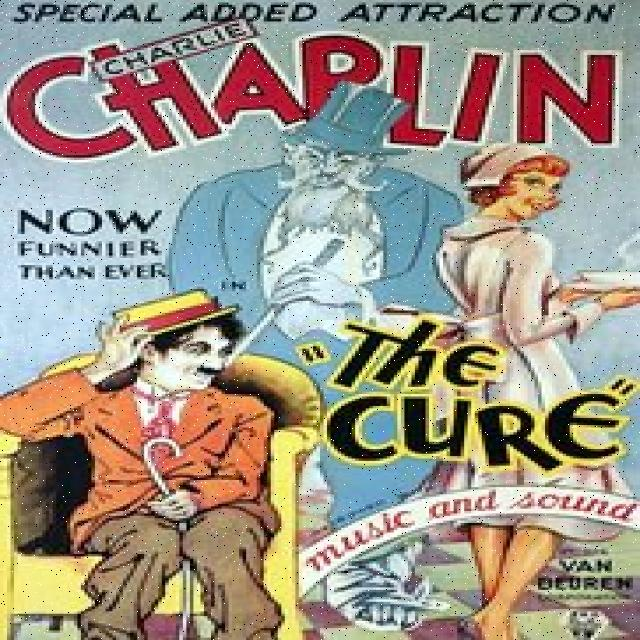movie-judul: (292, 317, 640, 473)
picture: (172, 81, 633, 640), (3, 290, 304, 640)
